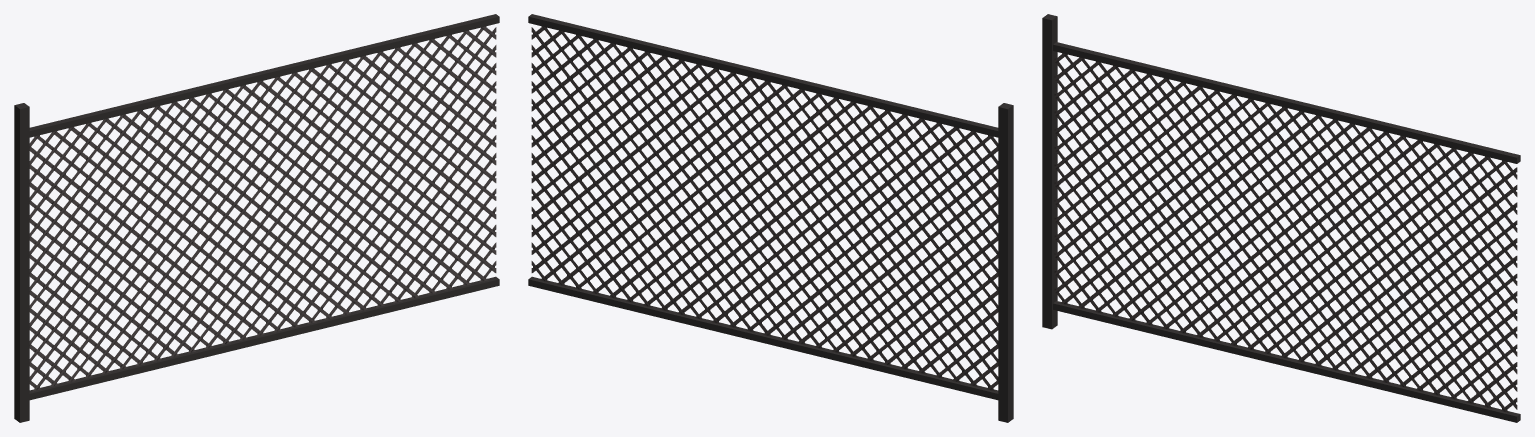
The model's file is SM_IndustrialProps_Fence_06.fbx.
3 renders of one model, left to right at view 1: azimuth 30°, elevation 25°; view 2: azimuth 150°, elevation 25°; view 3: azimuth 330°, elevation 25°, orthographic.
Visible parts, largest first — view 1: SM_IndustrialProps_Fence_06; view 2: SM_IndustrialProps_Fence_06; view 3: SM_IndustrialProps_Fence_06.
Part boxes in pixels (<box>): SM_IndustrialProps_Fence_06: <box>14,14,499,422</box>; SM_IndustrialProps_Fence_06: <box>528,14,1013,422</box>; SM_IndustrialProps_Fence_06: <box>1042,14,1520,422</box>.
Bounding box in the file's own units: 3.53 × 2.2 × 0.0712.
